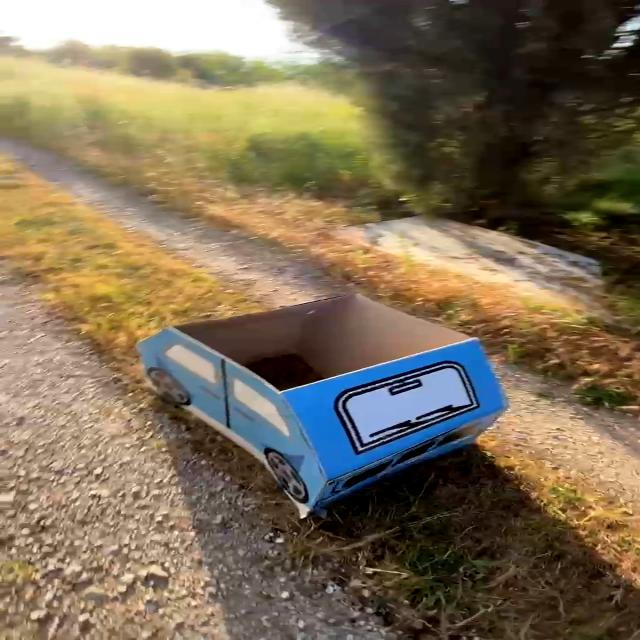blue_car: (85, 267, 535, 541)
